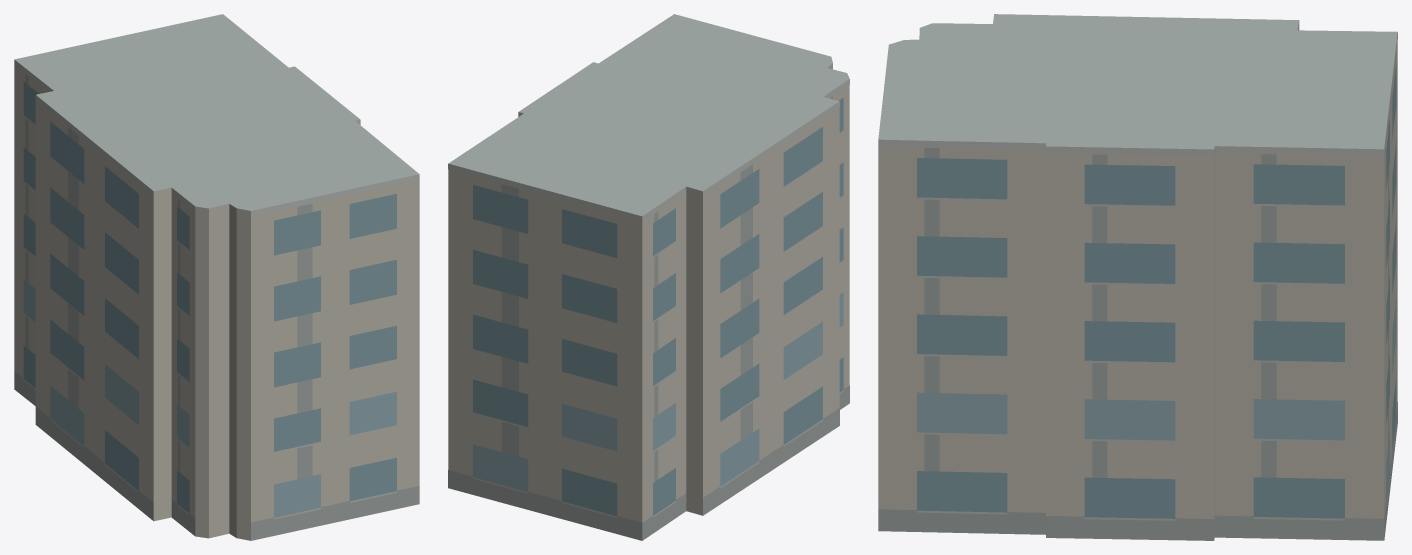
File: survey-upis-32833475.glb
3 renders of one model, left to right at view 1: azimuth 30°, elevation 25°; view 2: azimuth 150°, elevation 25°; view 3: azimuth 270°, elevation 25°, orthographic. The views are drawn at different scales.
Parts seen in each view (by area): view 1: survey-upis-32833475.tmp; view 2: survey-upis-32833475.tmp; view 3: survey-upis-32833475.tmp.
Boxes of the visible parts, x1,y1,x2,y2 form: survey-upis-32833475.tmp: (14, 14, 419, 540); survey-upis-32833475.tmp: (448, 14, 849, 540); survey-upis-32833475.tmp: (878, 14, 1397, 540).
Bounding box in the file's own units: 10.03 × 13.5 × 16.25.
